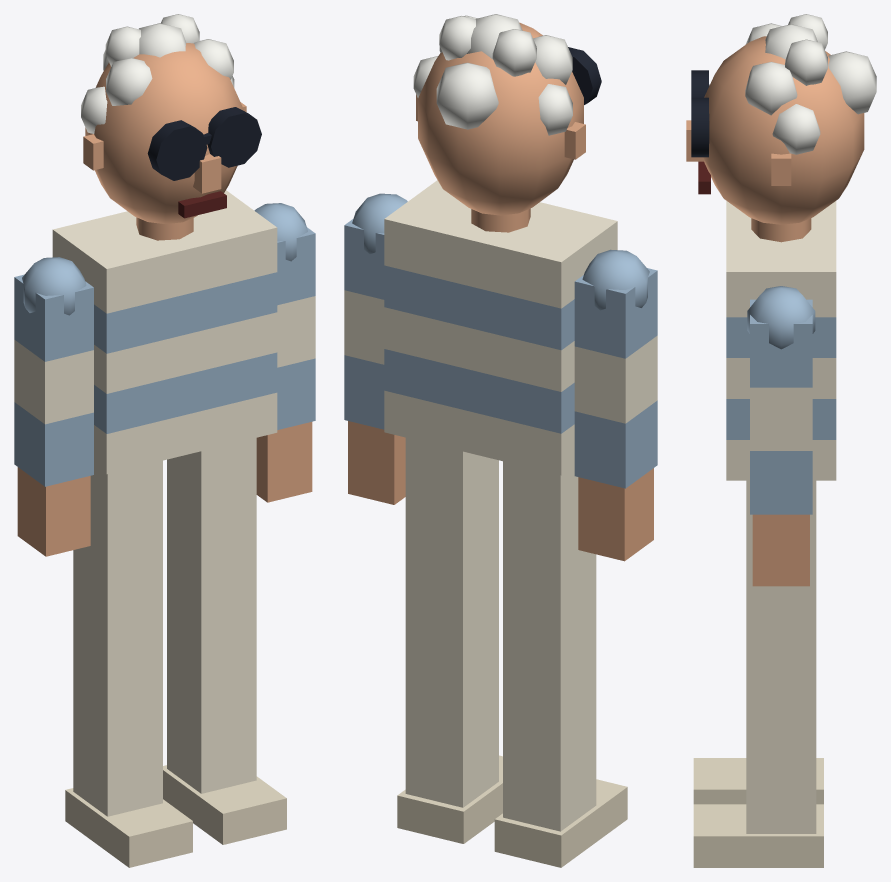
Rendered from hikmet.glb.
3 renders of one model, left to right at view 1: azimuth 30°, elevation 25°; view 2: azimuth 150°, elevation 25°; view 3: azimuth 270°, elevation 25°, orthographic. The views are drawn at different scales.
Visible parts, largest first — view 1: Body, LegL, LegR, ArmR, Head, ArmL, Glasses, Mouth; view 2: Body, LegR, LegL, Head, ArmR, ArmL, Glasses; view 3: Head, LegL, ArmL, Body, LegR, Glasses, Mouth.
Part boxes in pixels (bbox=[...]): Body: bbox=[52, 190, 277, 473]; LegL: bbox=[163, 438, 286, 844]; LegR: bbox=[65, 460, 192, 867]; ArmR: bbox=[14, 257, 93, 556]; Head: bbox=[81, 14, 246, 223]; ArmL: bbox=[254, 203, 315, 502]; Glasses: bbox=[147, 107, 261, 180]; Mouth: bbox=[178, 191, 226, 218]; Body: bbox=[384, 180, 617, 475]; LegR: bbox=[494, 461, 627, 867]; LegL: bbox=[397, 437, 502, 843]; Head: bbox=[413, 14, 585, 215]; ArmR: bbox=[574, 249, 657, 561]; ArmL: bbox=[344, 193, 407, 504]; Glasses: bbox=[568, 47, 601, 104]; Head: bbox=[686, 14, 876, 224]; LegL: bbox=[693, 480, 823, 867]; ArmL: bbox=[747, 286, 815, 586]; Body: bbox=[726, 201, 836, 480]; LegR: bbox=[693, 758, 823, 804]; Glasses: bbox=[691, 70, 708, 157]; Mouth: bbox=[698, 161, 710, 194].
Size of the model in its own units: 0.6556 by 1.77 by 0.3806.
